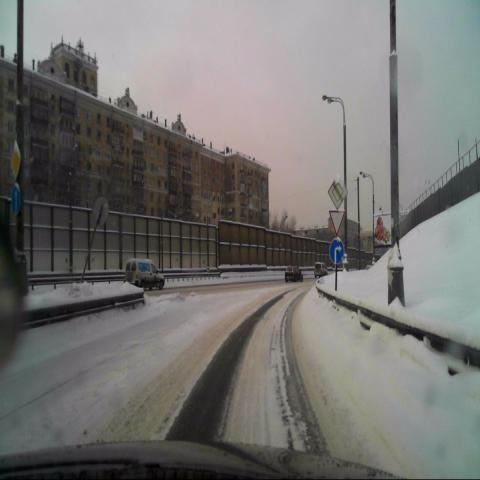2_1: (10, 140, 20, 181)
2_2: (328, 176, 347, 210)
2_4: (330, 210, 346, 236)
4_1_1: (12, 182, 21, 214)
4_1_2: (329, 236, 343, 264)
